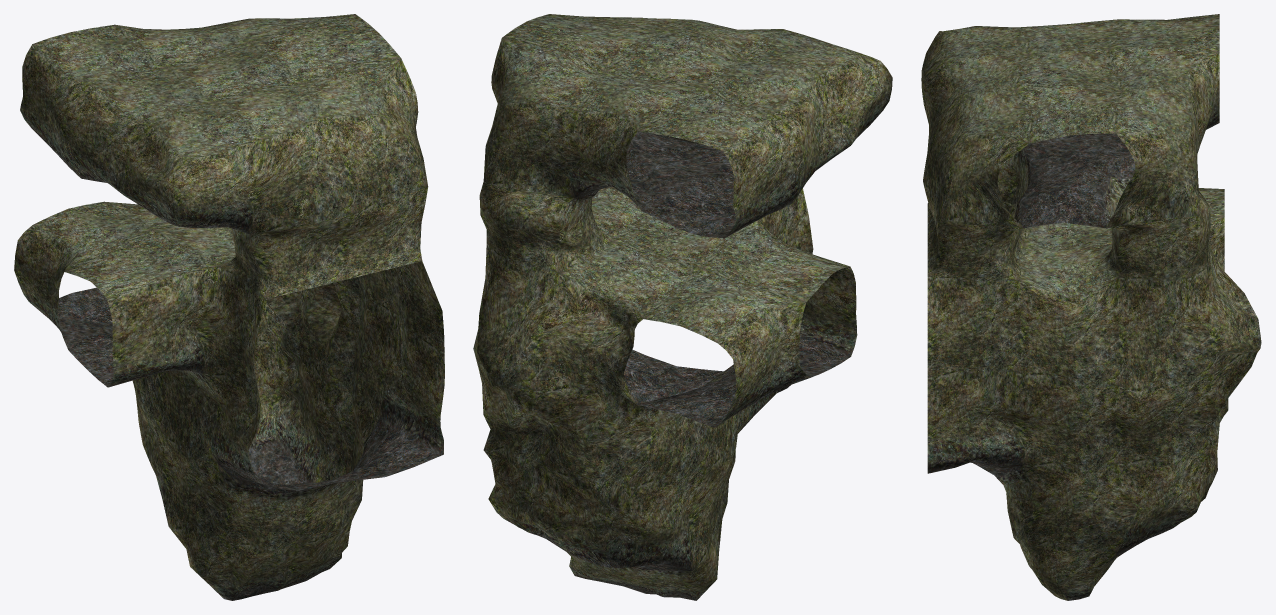
File: thm_all_cave_s02_damprock_mirror_r5_mesh_r5.fbx
The picture shows the model from 3 angles, left to right: view 1: azimuth 30°, elevation 25°; view 2: azimuth 150°, elevation 25°; view 3: azimuth 270°, elevation 25°; orthographic projection. The views are drawn at different scales.
Parts seen in each view (by area): view 1: mesh_node; view 2: mesh_node; view 3: mesh_node.
Boxes of the visible parts, x1,y1,x2,y2 form: mesh_node: (14,14,444,600); mesh_node: (473,14,892,600); mesh_node: (921,14,1261,600).
Size of the model in its own units: 34.53 by 59.24 by 36.4.
